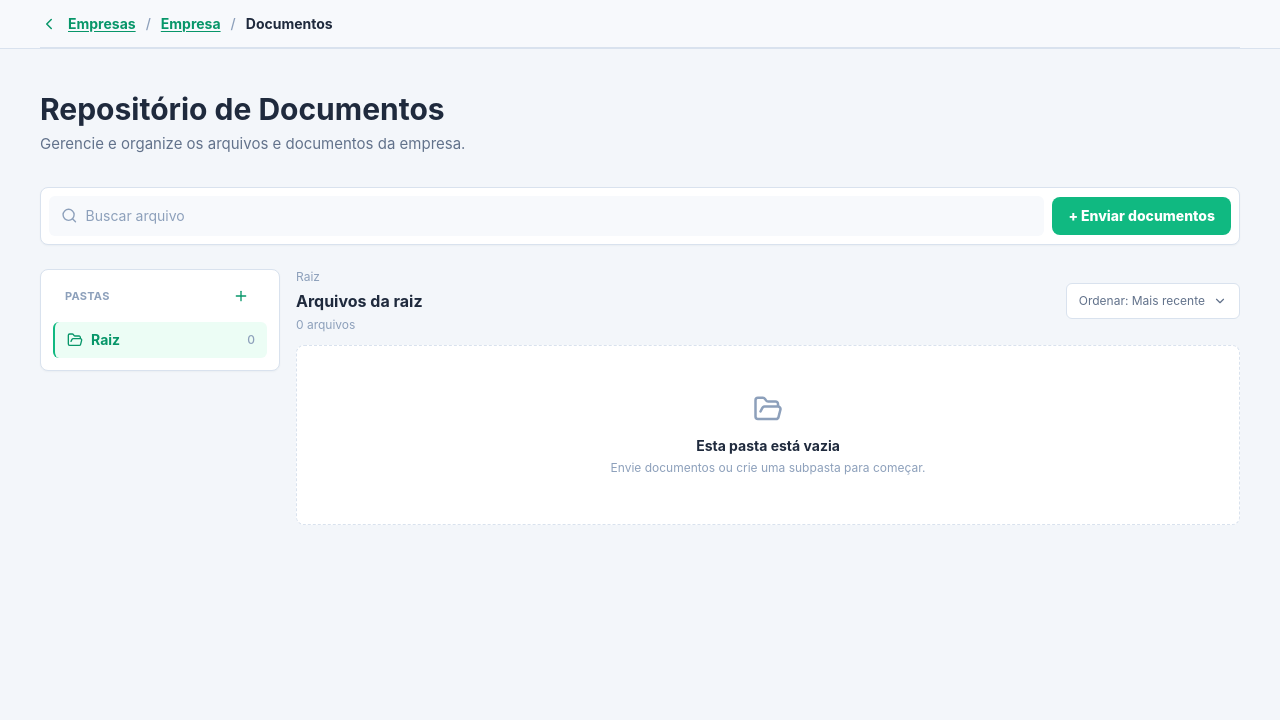
Test: CompanyDocumentsPage › shows the empty state and opens the upload modal
Expected: the text "Esta pasta está vazia" is shown, x1=696 y1=437 x2=840 y2=454
Click the button "+ Enviar documentos".
click(1142, 216)  # box x1=1052 y1=197 x2=1231 y2=235
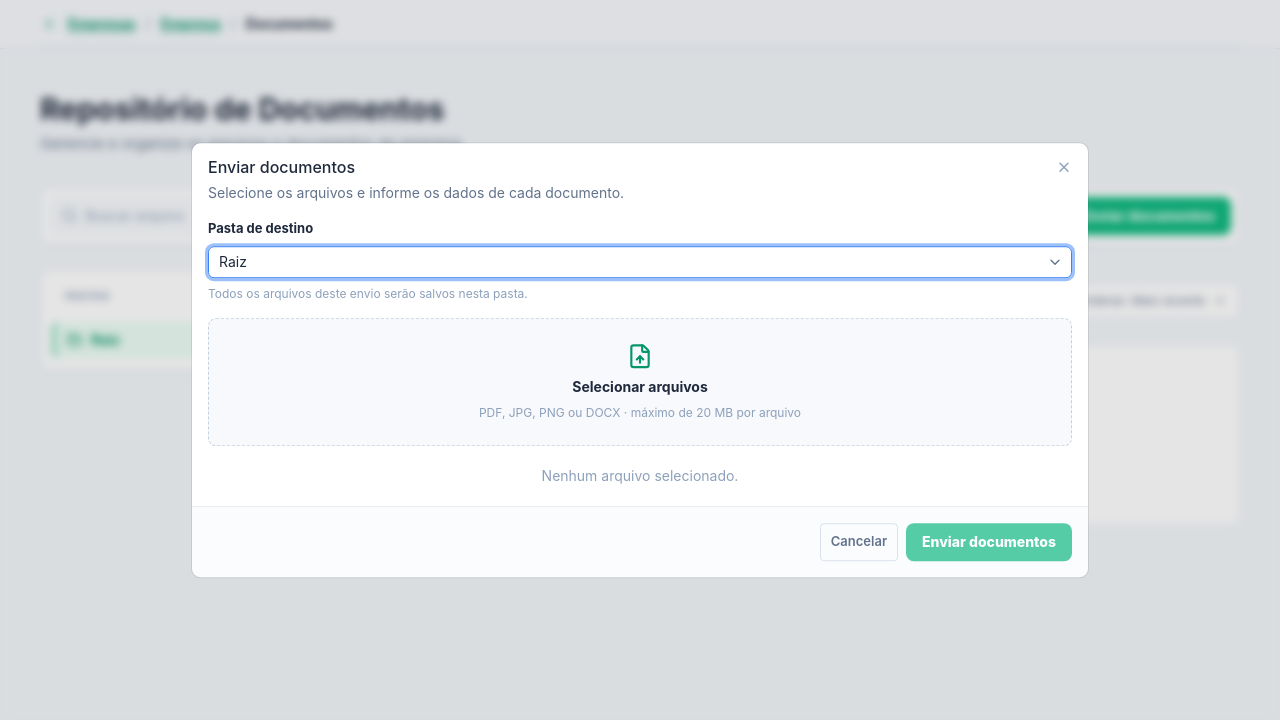
Now the heading "Enviar documentos" is shown, box x1=208 y1=157 x2=355 y2=177
